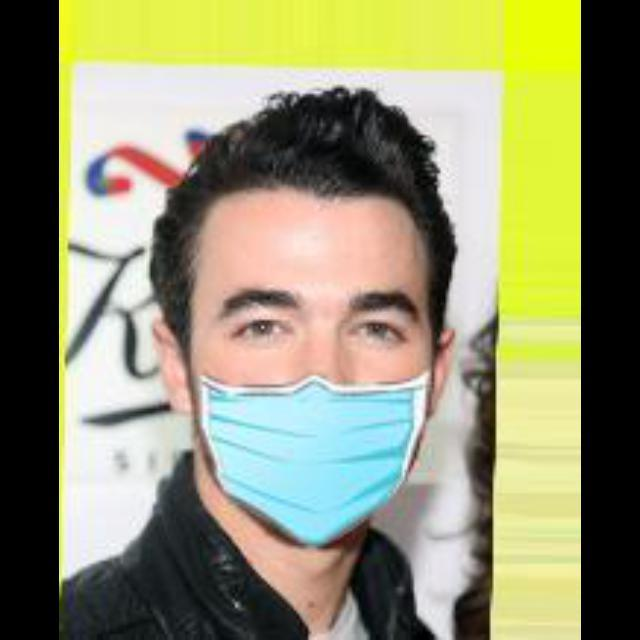suspicion: (140, 85, 430, 560)
